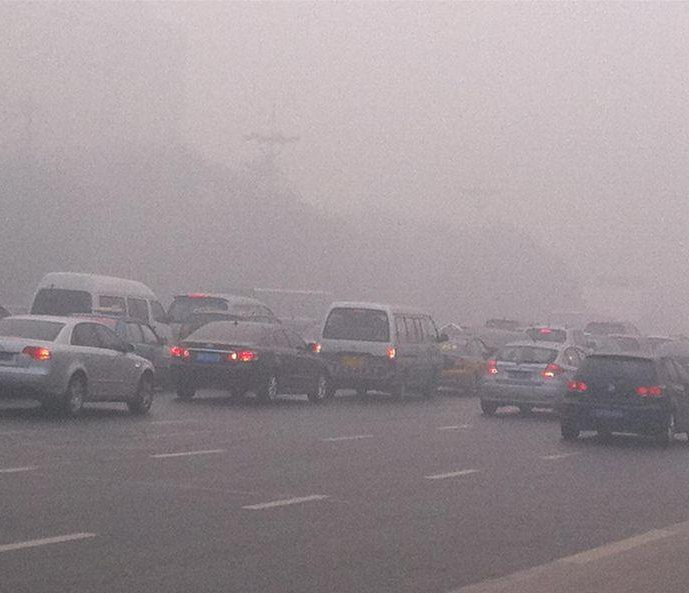car: (1, 310, 157, 420), (313, 300, 450, 404), (167, 320, 335, 400), (25, 267, 174, 355), (558, 352, 689, 449), (62, 302, 178, 394), (476, 337, 594, 420), (166, 291, 286, 366), (179, 303, 291, 381), (420, 330, 497, 398), (520, 321, 599, 383), (582, 319, 646, 380)
